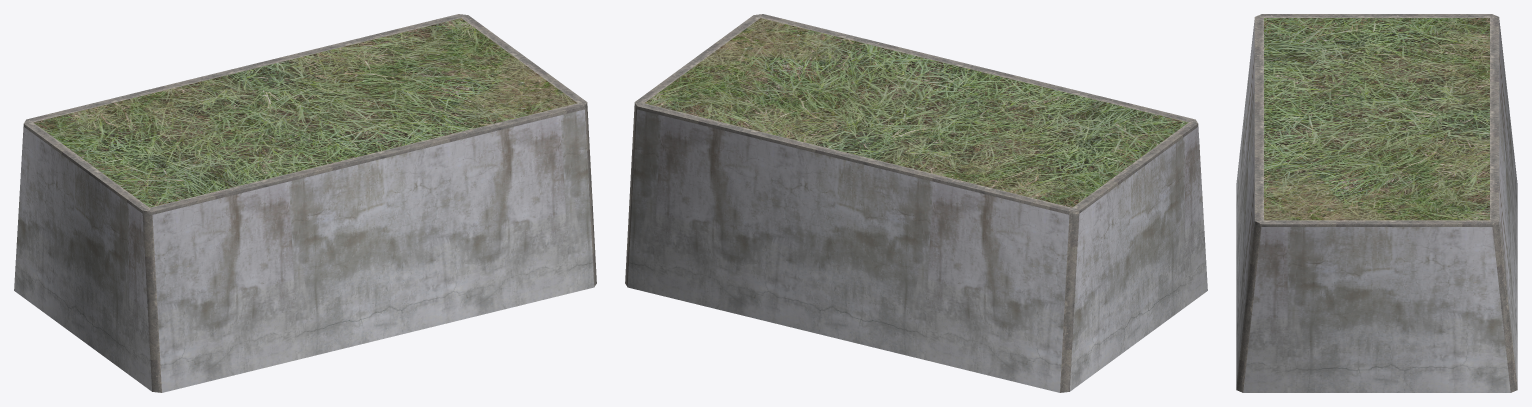
File: JpHouseJ_StoneWall_01b.fbx
3 views of the same model, side by side, from view 1: azimuth 30°, elevation 25°; view 2: azimuth 150°, elevation 25°; view 3: azimuth 270°, elevation 25° (orthographic). The views are drawn at different scales.
Visible parts, largest first — view 1: JpHouseJ_StoneWall_01b; view 2: JpHouseJ_StoneWall_01b; view 3: JpHouseJ_StoneWall_01b.
Part boxes in pixels (x1,y1,x2,y2): JpHouseJ_StoneWall_01b: (14,14,596,392); JpHouseJ_StoneWall_01b: (625,14,1207,392); JpHouseJ_StoneWall_01b: (1236,14,1517,392).
Bounding box in the file's own units: 10.69 × 4 × 6.05.
